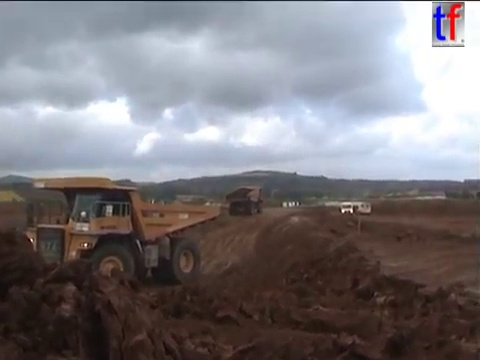truck: (18, 175, 223, 292), (224, 184, 265, 216)
